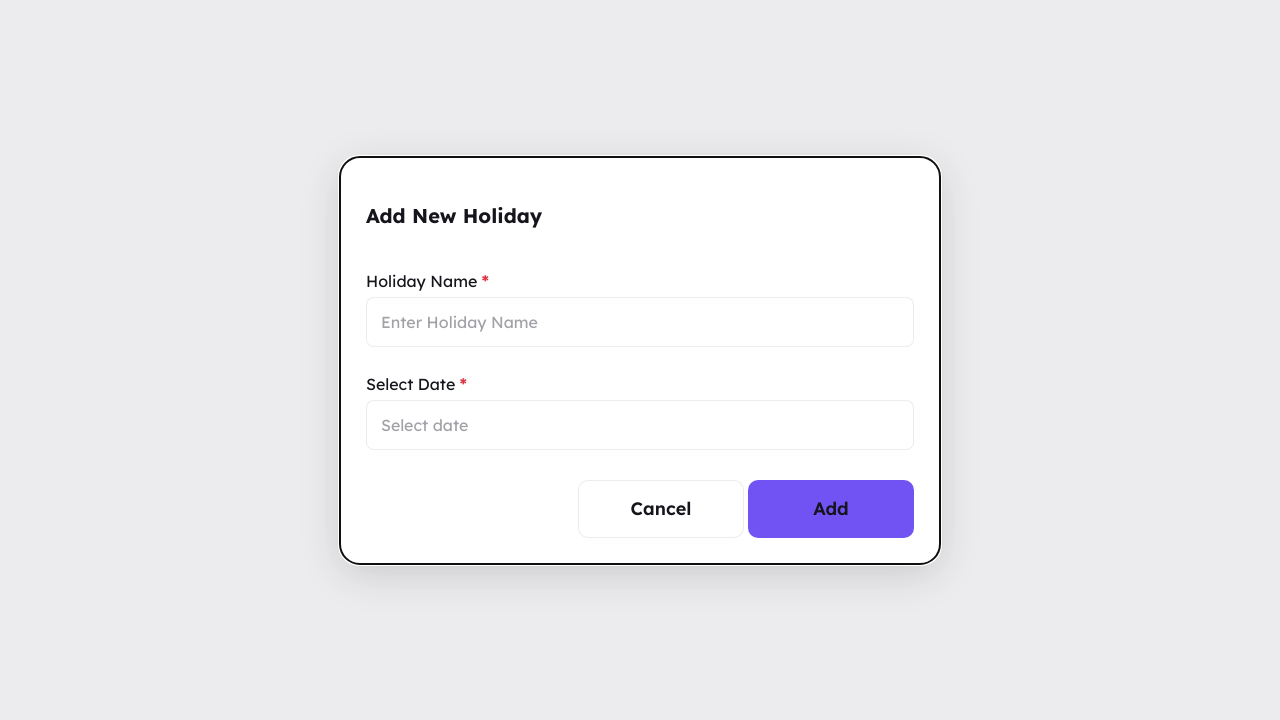
Test: AddHolidayModal › clears the name error once the user starts typing
This screenshot has width=1280, height=720.
Click the button "Add" at (831, 508), box [748,480,914,538]
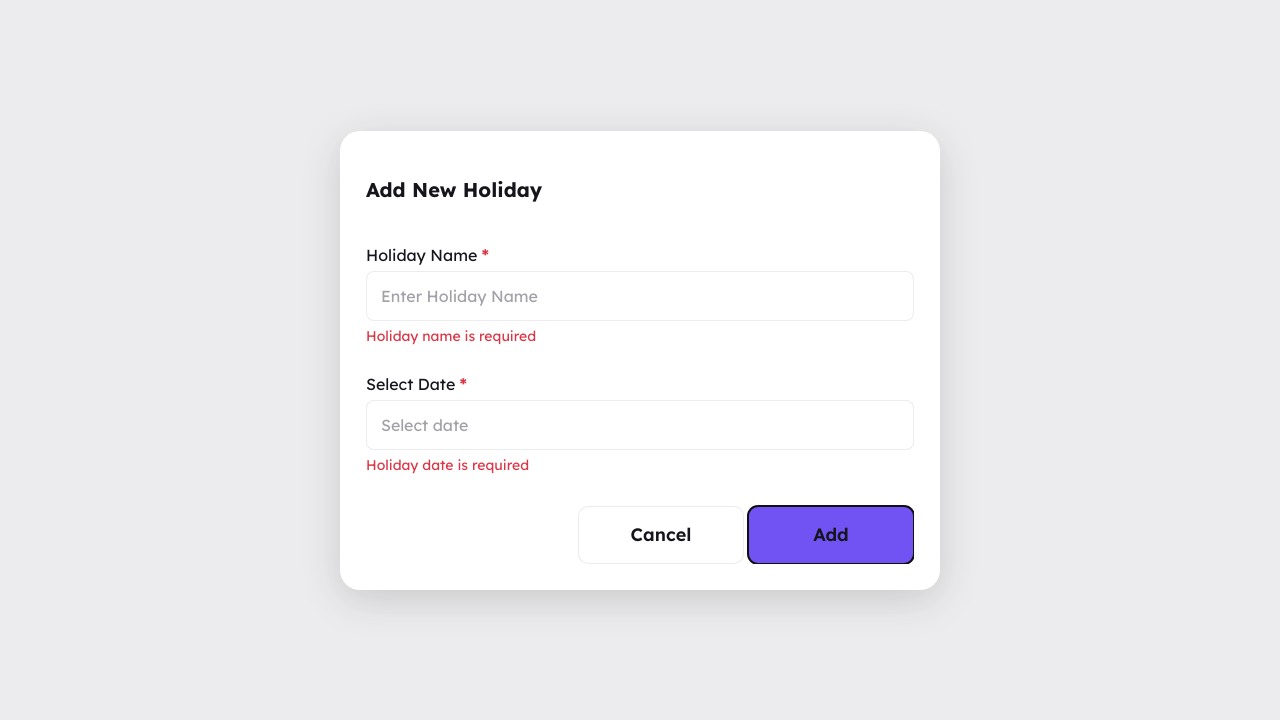
Now the text "Holiday name is required" is shown, box [366,326,536,344]
Type "D" into the field with placeholder "Enter Holiday Name" at (640, 296), box [367,272,913,320]
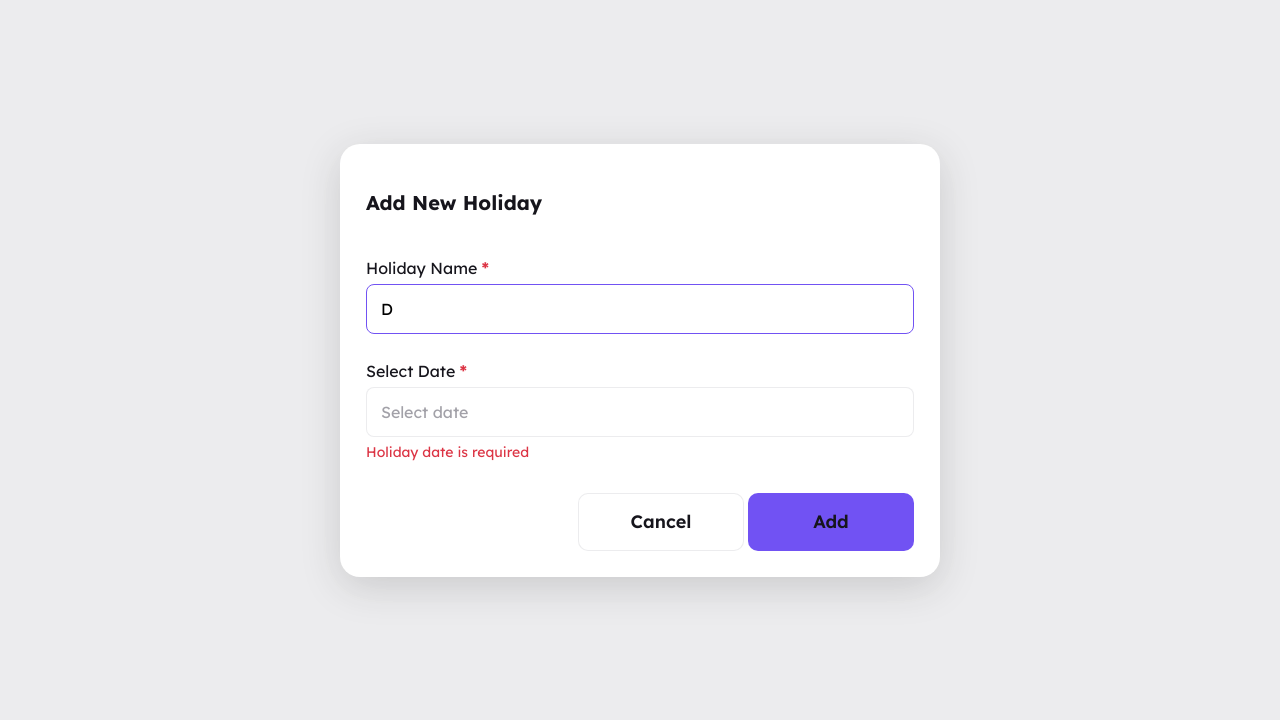
Now the text "Holiday date is required" is shown, box [366,442,529,460]
Now the text "Holiday name is required" is gone
